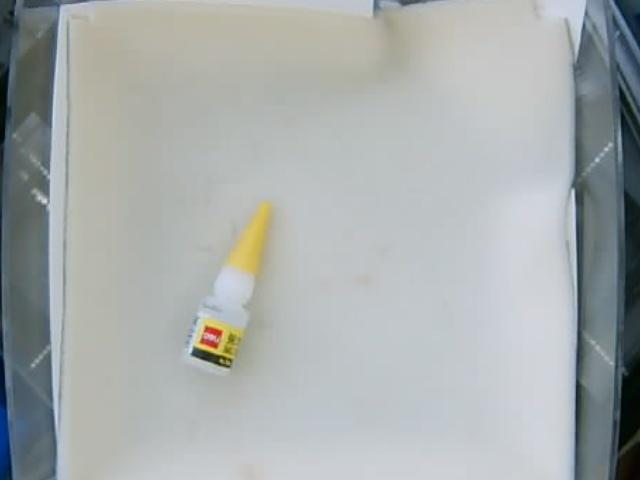Bottle: (185, 202, 274, 377)
